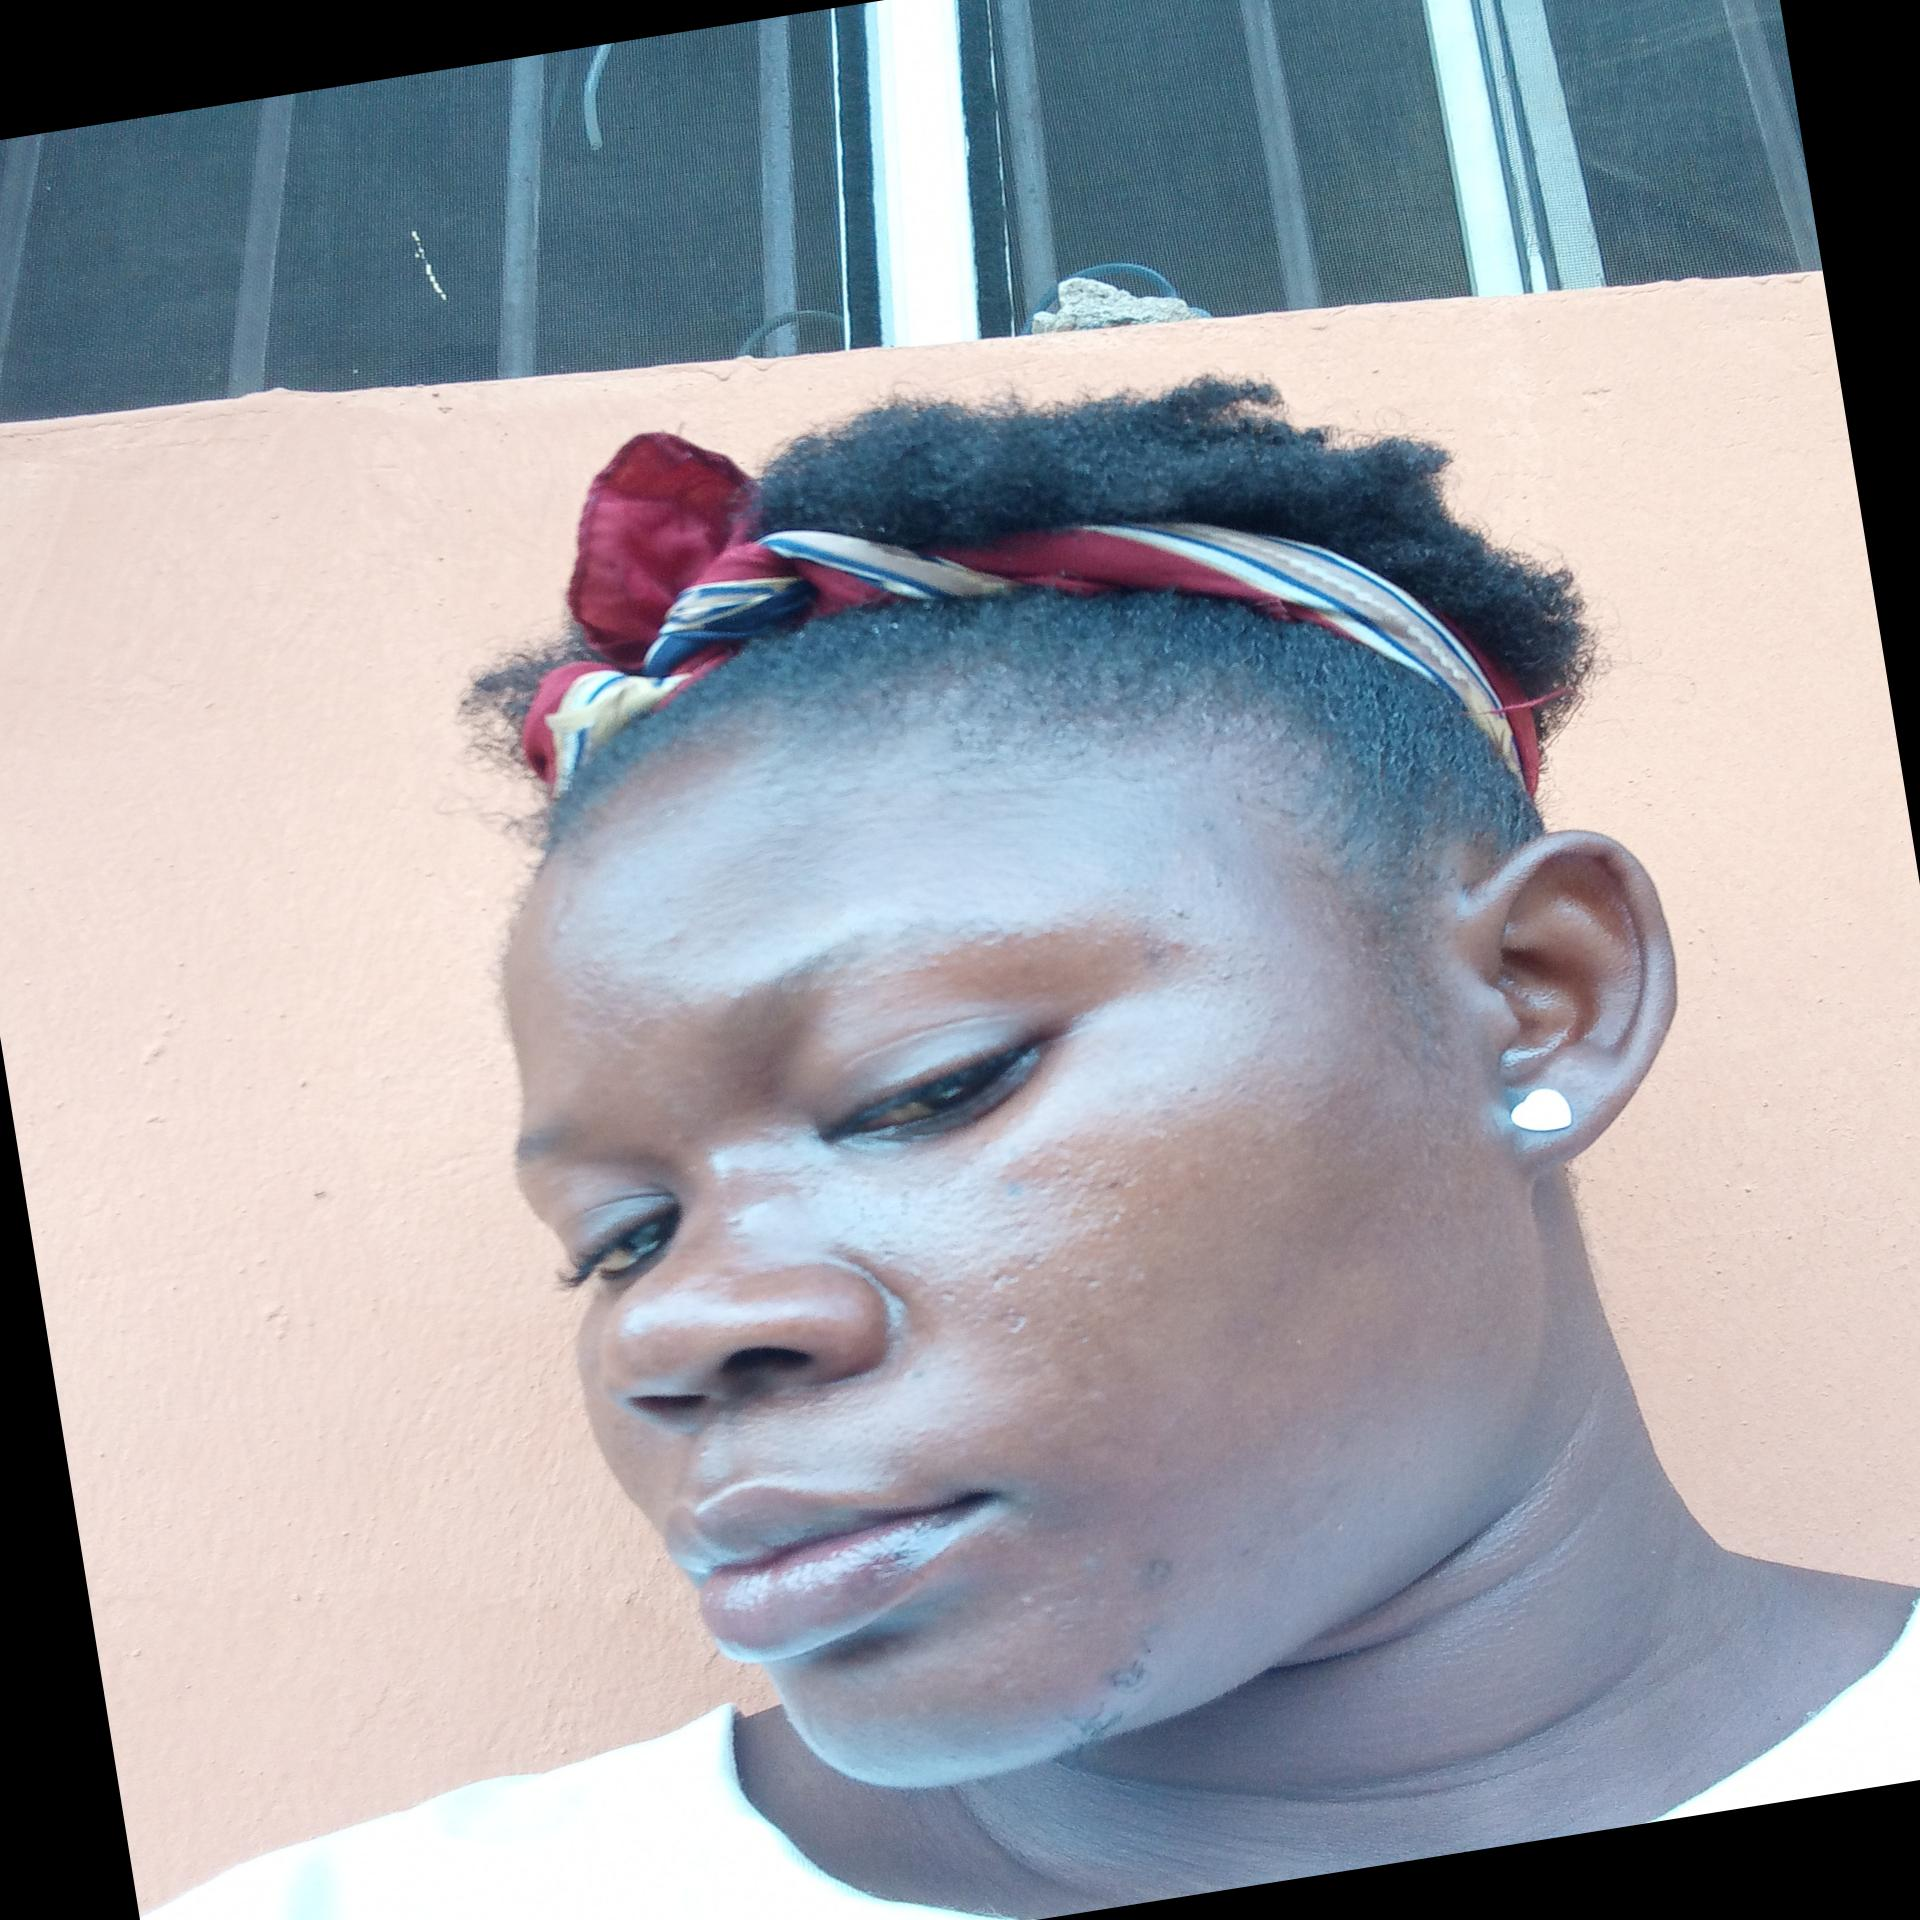Acne: (1132, 881, 1241, 1004), (538, 884, 585, 948), (721, 1204, 751, 1234)
Englarged Pores: (948, 1122, 1155, 1340), (561, 946, 703, 1069)
